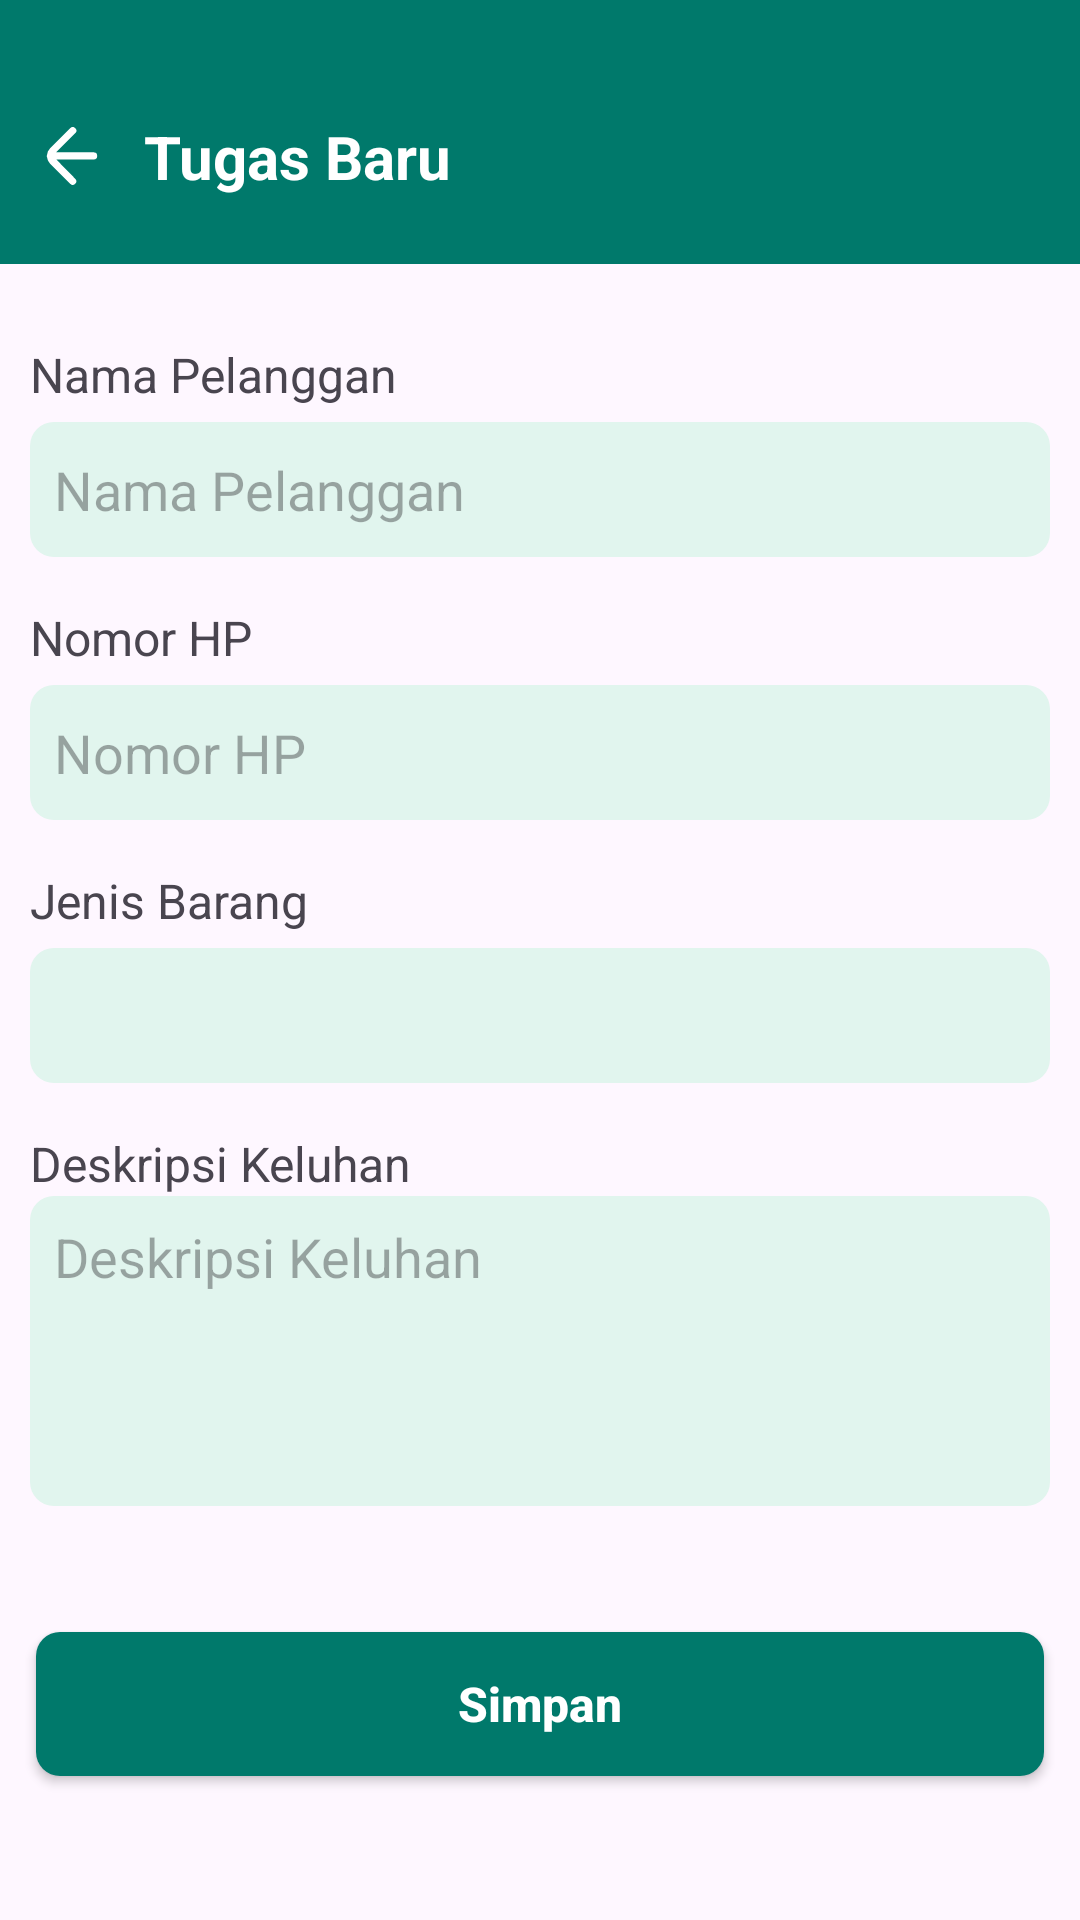

Named icons in this screenshot (1080w x 1920h) and their centers, (x,y):
back arrow: (72,156)
